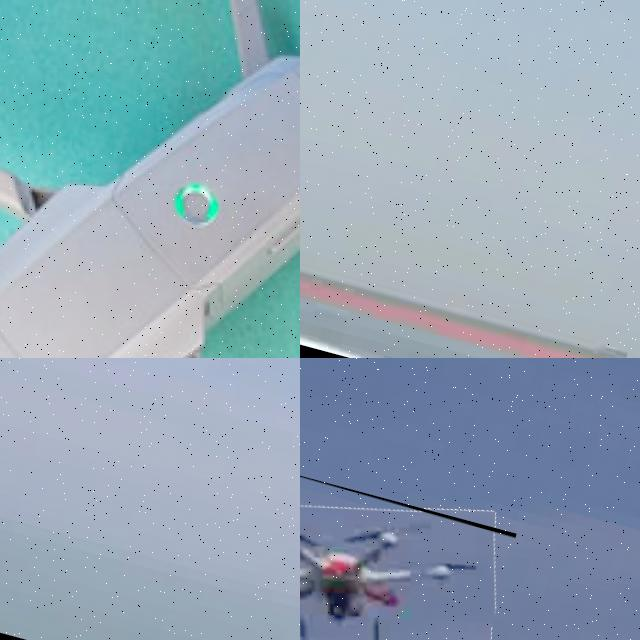0: (300, 452, 516, 640)
drone: (0, 0, 300, 358)
